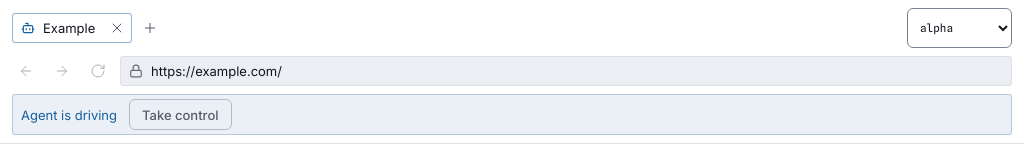
Test: BrowserPage › agent tabs › disables the omnibox and navigation while the agent drives, enables them after Take control
expect the field named "address" is disabled: met, box [151,57,1003,85]
Click the button "Take control".
click(180, 115)  # box [129,99,232,130]
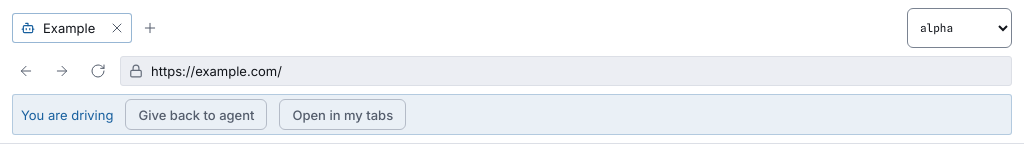
expect the field named "address" is enabled: met, box [151,57,1003,85]
expect the text "You are driving" is shown: met, box [21,105,113,125]
